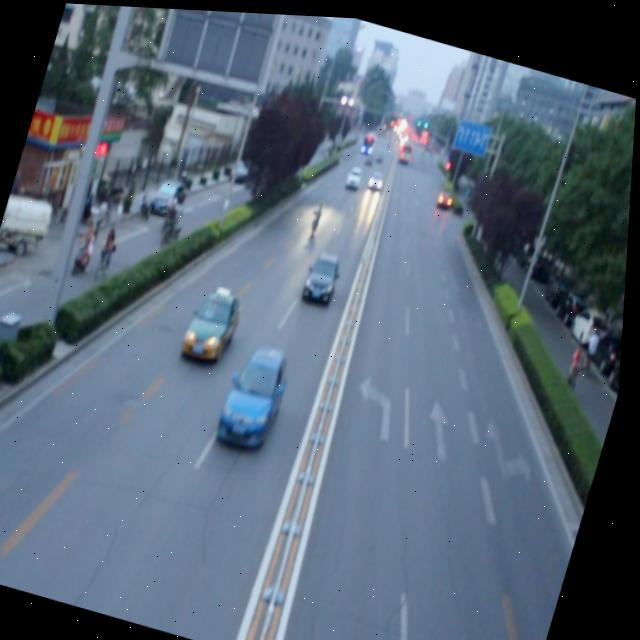car: (214, 332, 300, 455), (183, 278, 248, 364), (301, 244, 347, 305)
